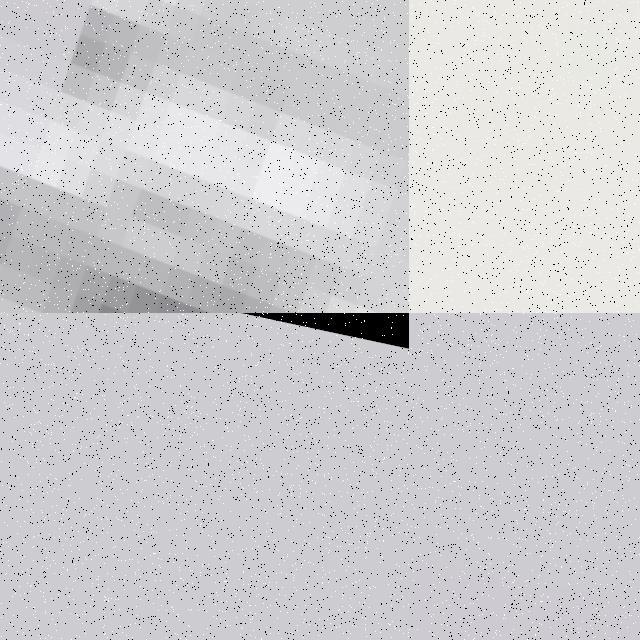0: (0, 0, 409, 313)
drone: (409, 0, 640, 313)
